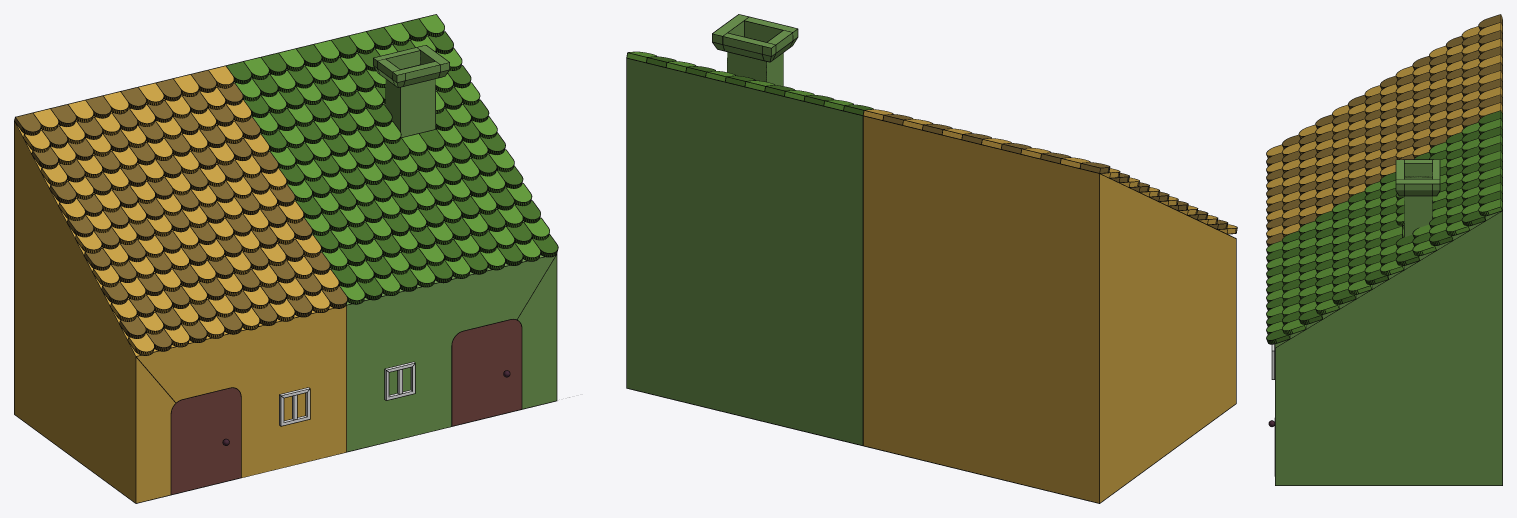
3 views of the same model, side by side, from view 1: azimuth 30°, elevation 25°; view 2: azimuth 150°, elevation 25°; view 3: azimuth 270°, elevation 25° (orthographic). The views are drawn at different scales.
Visible parts, largest first — view 1: Bricks.001, House.005, Door.004, Door.007, Chimney.005, Window_Right_Right.008, Window_Right_Right.007; view 2: House.005, Bricks.001, Chimney.005; view 3: House.005, Bricks.001, Chimney.005.
Boxes of the visible parts, x1,y1,x2,y2 form: Bricks.001: (14, 14, 558, 355); House.005: (14, 35, 569, 503); Door.004: (451, 319, 522, 426); Door.007: (171, 387, 241, 494); Chimney.005: (373, 45, 449, 137); Window_Right_Right.008: (384, 361, 415, 400); Window_Right_Right.007: (279, 387, 310, 426); House.005: (626, 58, 1236, 503); Bricks.001: (626, 51, 1237, 234); Chimney.005: (712, 14, 798, 86); House.005: (1274, 21, 1502, 485); Bricks.001: (1266, 14, 1502, 344); Chimney.005: (1395, 159, 1440, 237).
Size of the model in its own units: 13.17 by 8.23 by 6.25.
